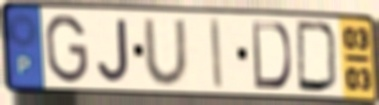D: (294, 18, 342, 95), (250, 19, 294, 91)
G: (43, 12, 90, 85)
I: (207, 16, 225, 92)
J: (96, 17, 132, 85)
U: (140, 17, 191, 88)
